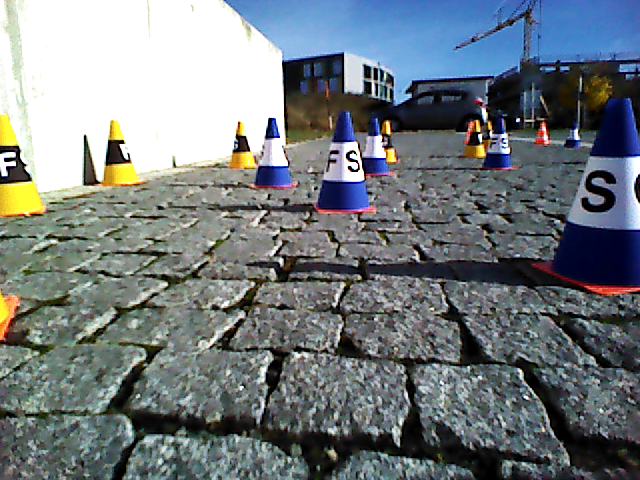bluecone: (555, 99, 640, 282), (319, 112, 366, 210), (255, 119, 290, 187), (483, 120, 513, 168), (364, 119, 387, 173)
yellowcone: (1, 114, 42, 213), (103, 121, 138, 185), (230, 121, 256, 167), (467, 121, 486, 157), (386, 120, 396, 163)
